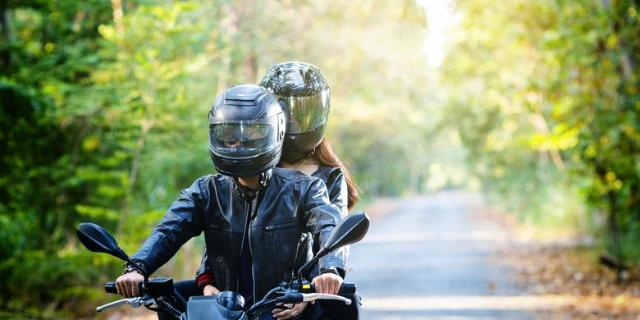helm: (206, 83, 287, 179), (259, 61, 331, 157)
motor: (77, 211, 379, 320)
